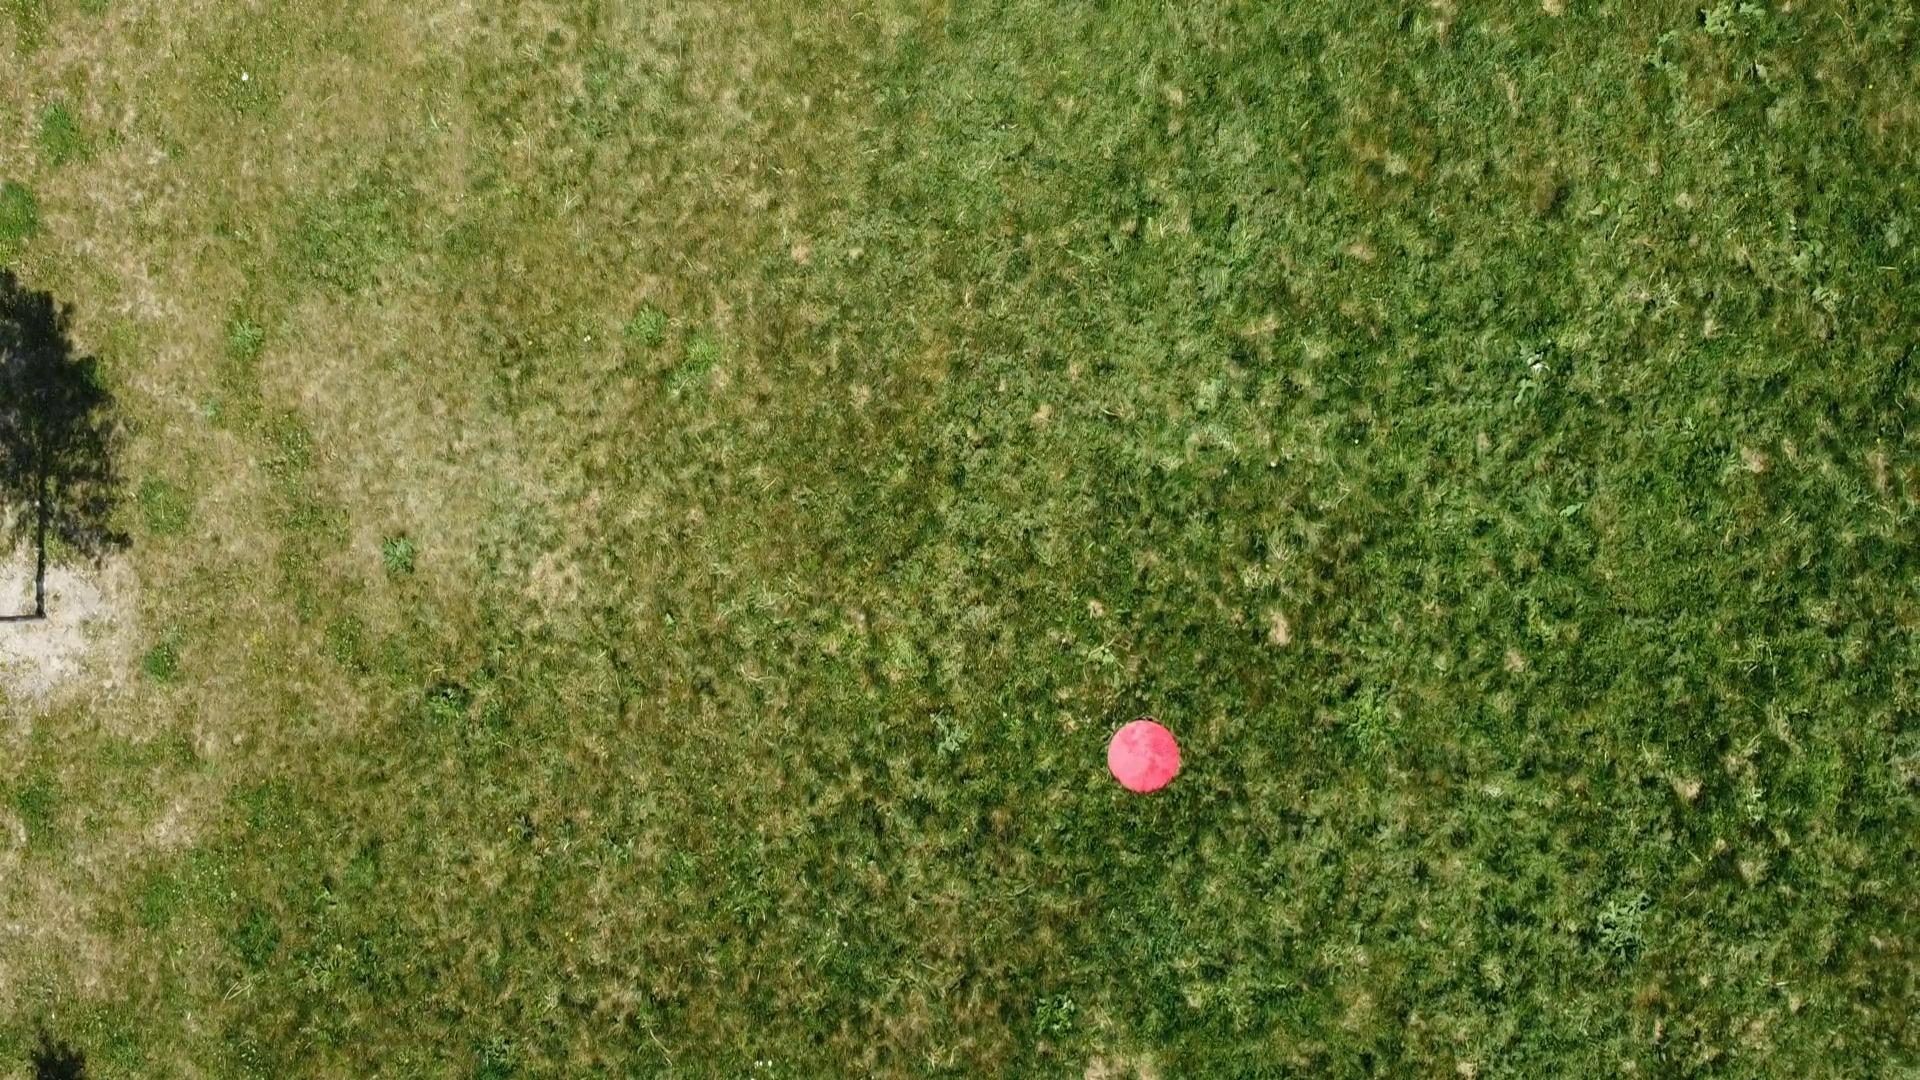Red: (1105, 716, 1184, 796)
